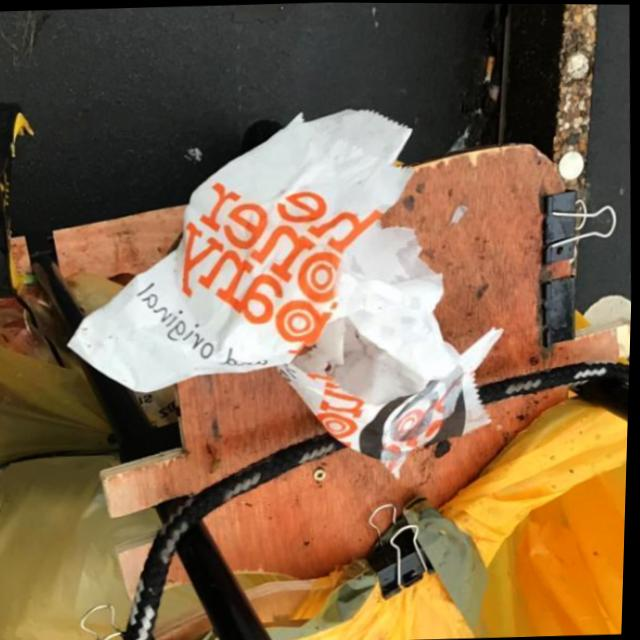Paper: (56, 98, 518, 494)
